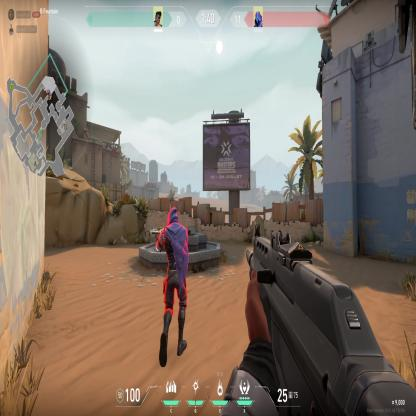enemy: (154, 204, 191, 368)
